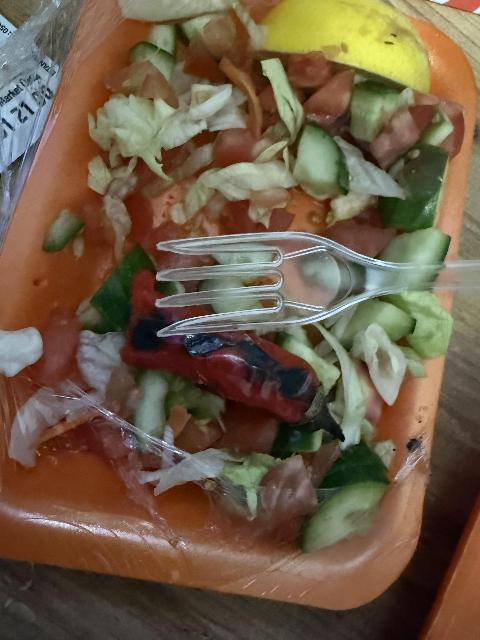Organik: (129, 335, 316, 416), (267, 2, 435, 90), (303, 449, 390, 546), (294, 130, 348, 192), (0, 322, 43, 378), (41, 206, 90, 254)
Plastik: (154, 233, 480, 341)
